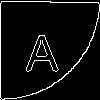A: (24, 24, 61, 72)
